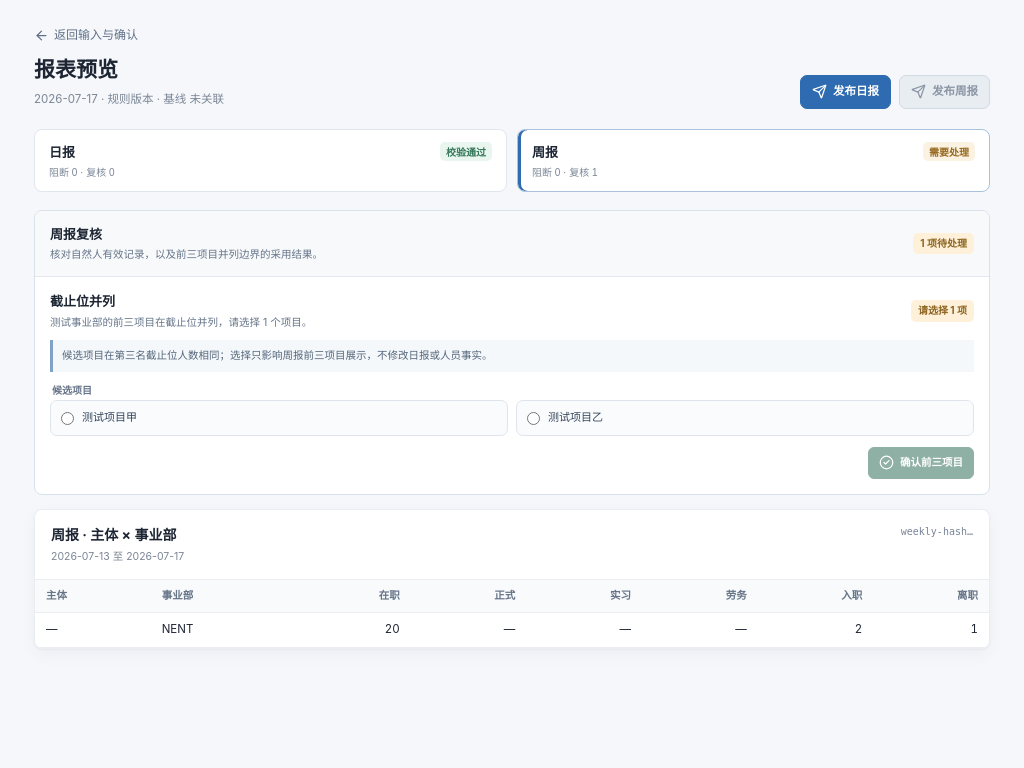
Test: RunPreviewPage › requires a cutoff-tie project selection before weekly publication
Expected: the heading "周报复核" is shown, x1=50 y1=226 x2=102 y2=242
Expected: the heading "截止位并列" is shown, x1=50 y1=293 x2=115 y2=309
Step 1. Click the radio button labelled "测试项目乙" → (534, 418), box x1=527 y1=412 x2=540 y2=425
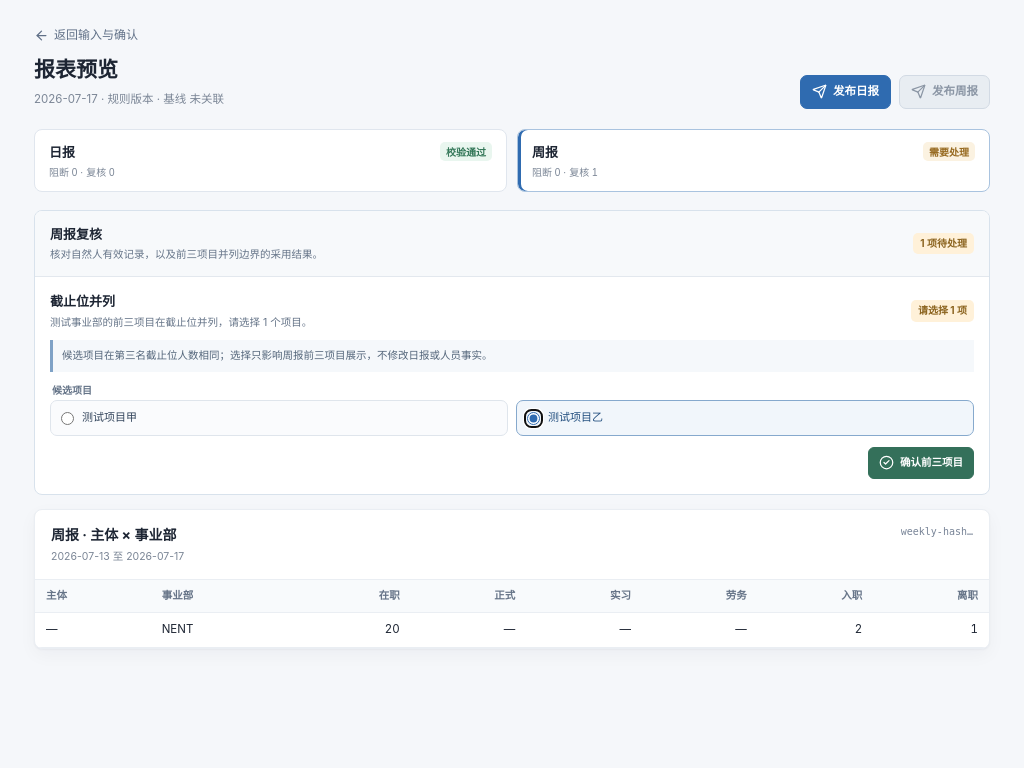
Step 2. Click the button "确认前三项目" → (921, 463), box x1=868 y1=447 x2=974 y2=479
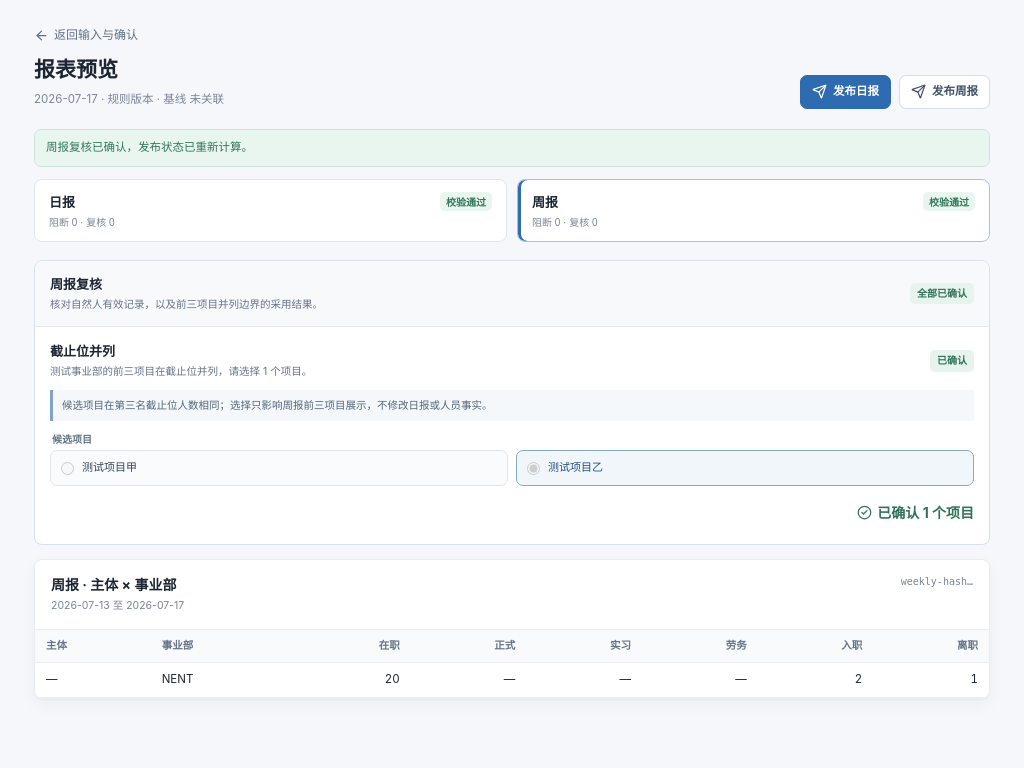
Expected: the button "发布周报" is enabled, x1=899 y1=75 x2=990 y2=109
Expected: the text "已确认 1 个项目" is shown, x1=857 y1=502 x2=974 y2=524
